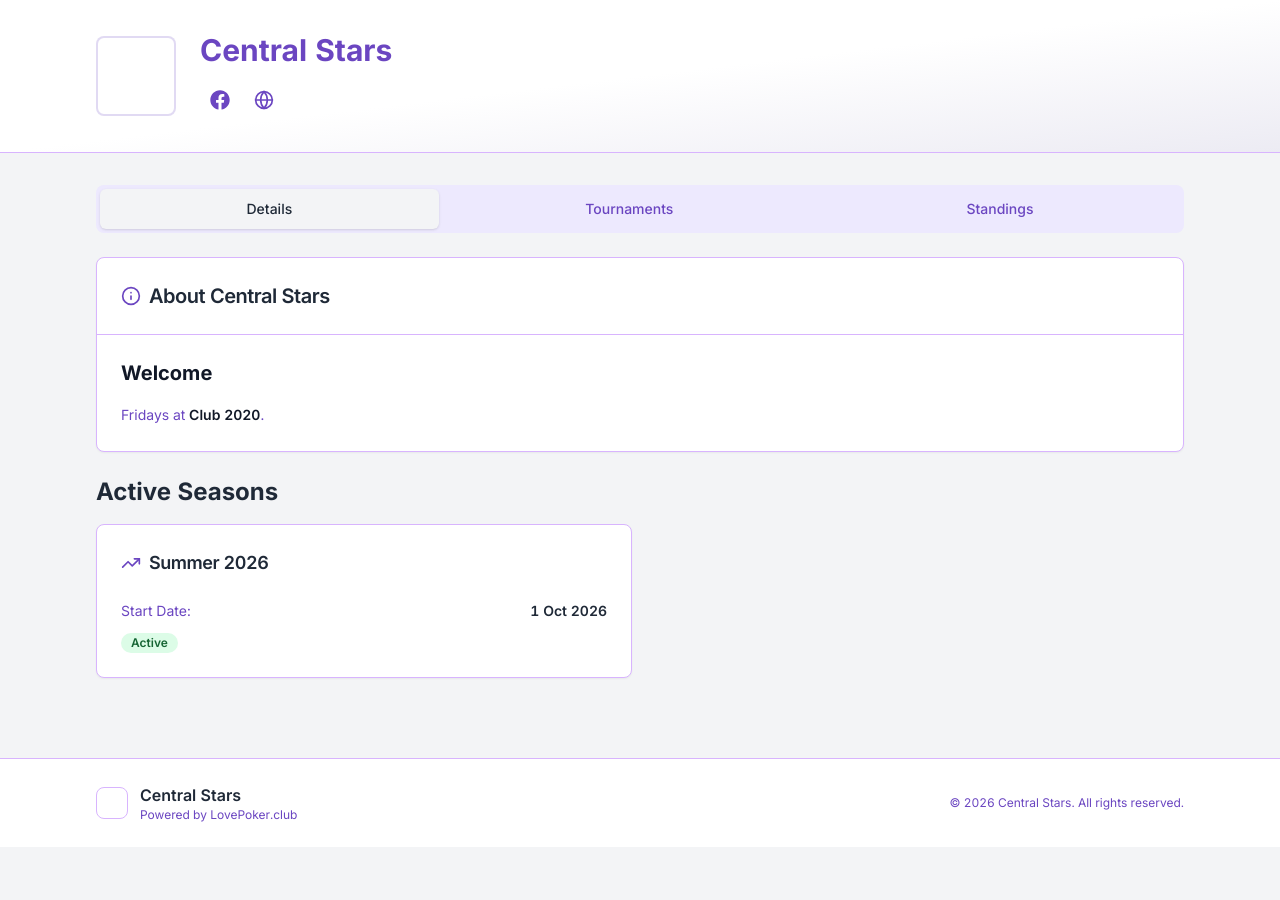
Test: PublicClubPage › shows the running season's standings first, fetching only the season shown
Click the tab "Standings" at coordinates (1000, 209), box [820,189,1180,229]
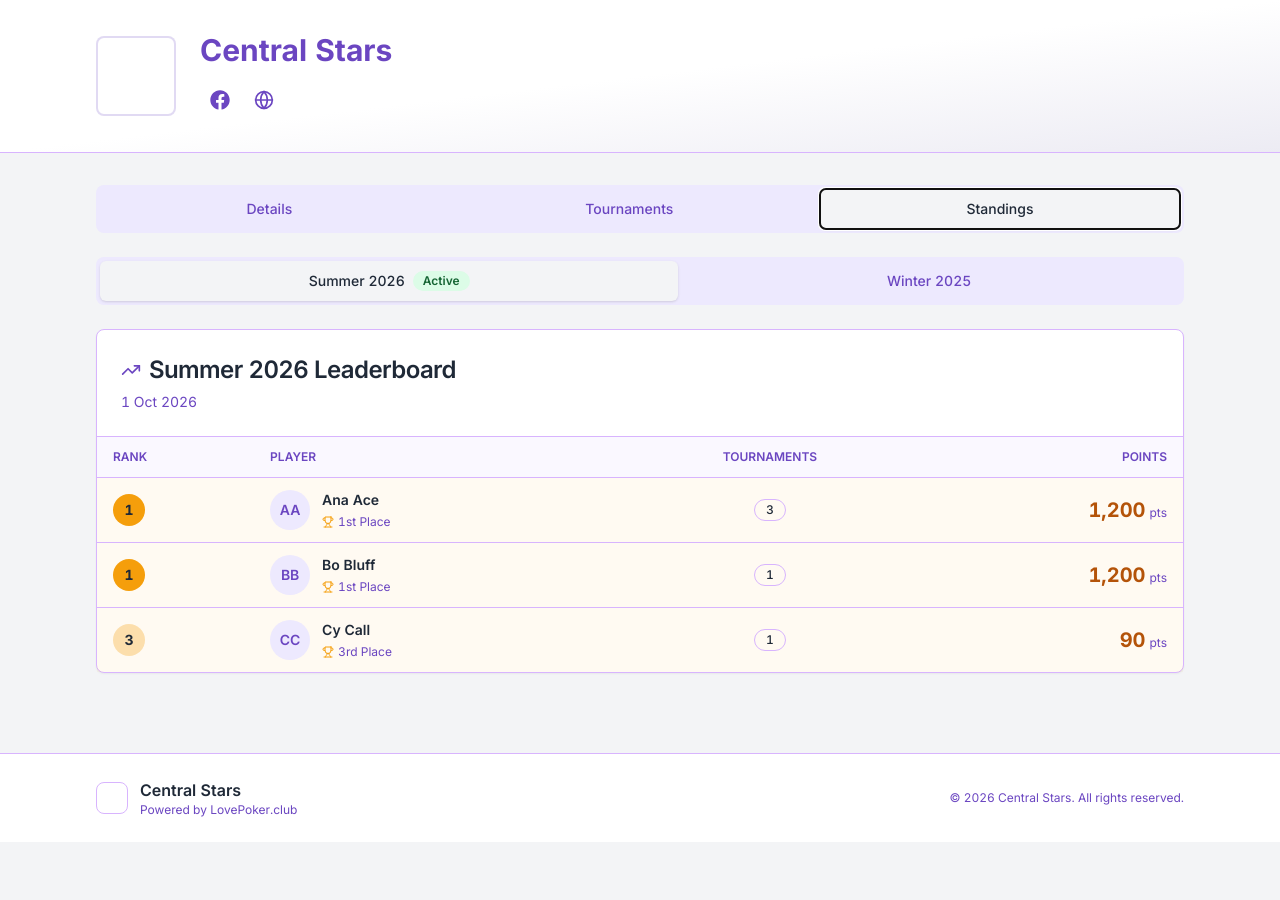
Check: the row "1 AA Ana Ace 1st Place 3 1,200pts" is shown, box [97,478,1183,542]
Check: the row "3 CC Cy Call 3rd Place 1 90pts" is shown, box [97,608,1183,672]
Click the tab "Winter 2025" at coordinates (929, 281), box [678,261,1180,301]
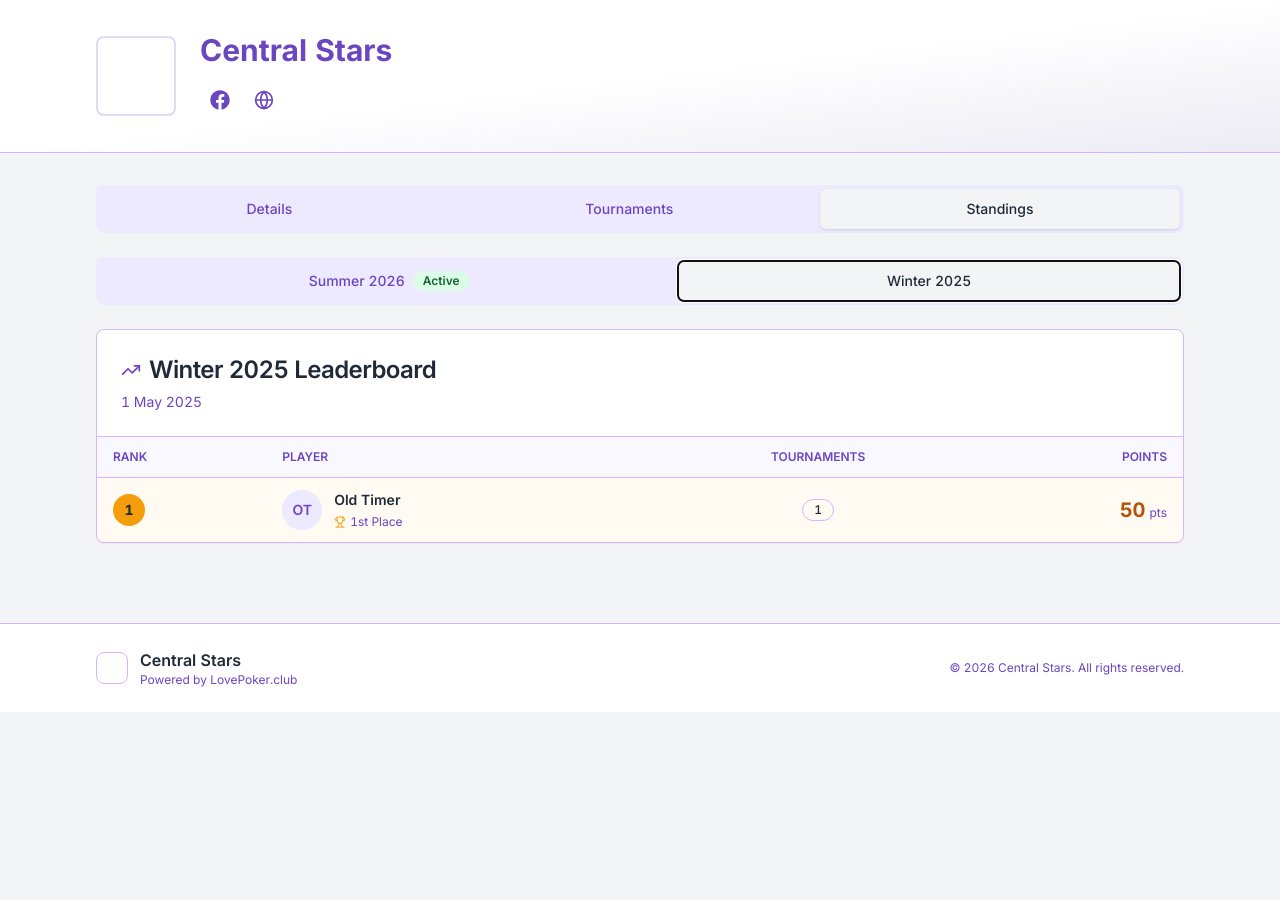
Check: the table named "Winter 2025 leaderboard" shows "Old Timer", box [334,491,400,508]
